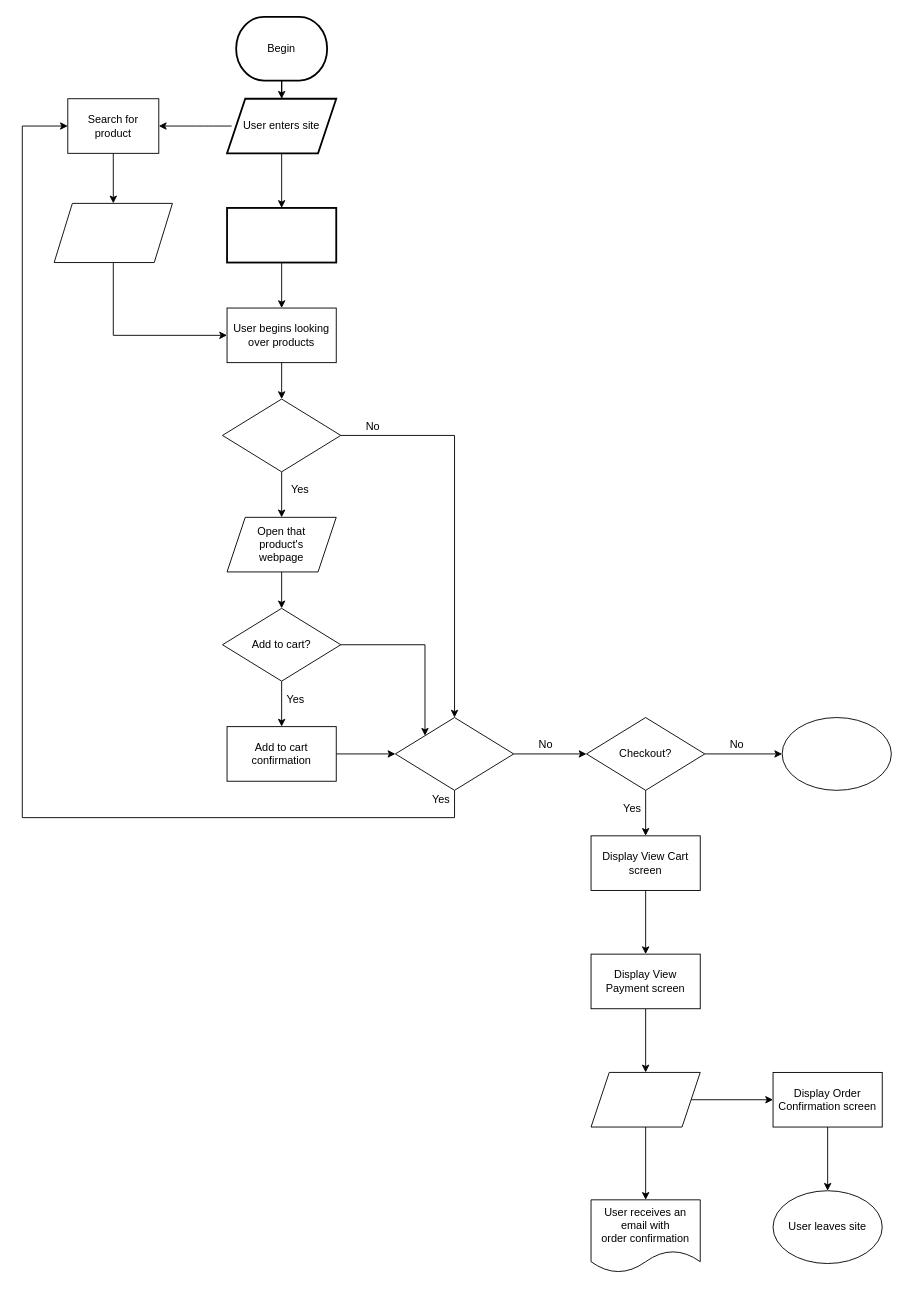
Image size: 907x1289. Some labels were removed from this diagram. Here are the shapes that lost their labels. From the top down, the box of each, then its label:
(53, 202, 172, 263): Input search query
(226, 207, 337, 263): Exploring products on main page
(222, 398, 341, 472): View specific product?
(394, 717, 514, 790): Continue shopping?
(781, 717, 891, 790): Leave site
(590, 1072, 700, 1127): User inputs payment information
